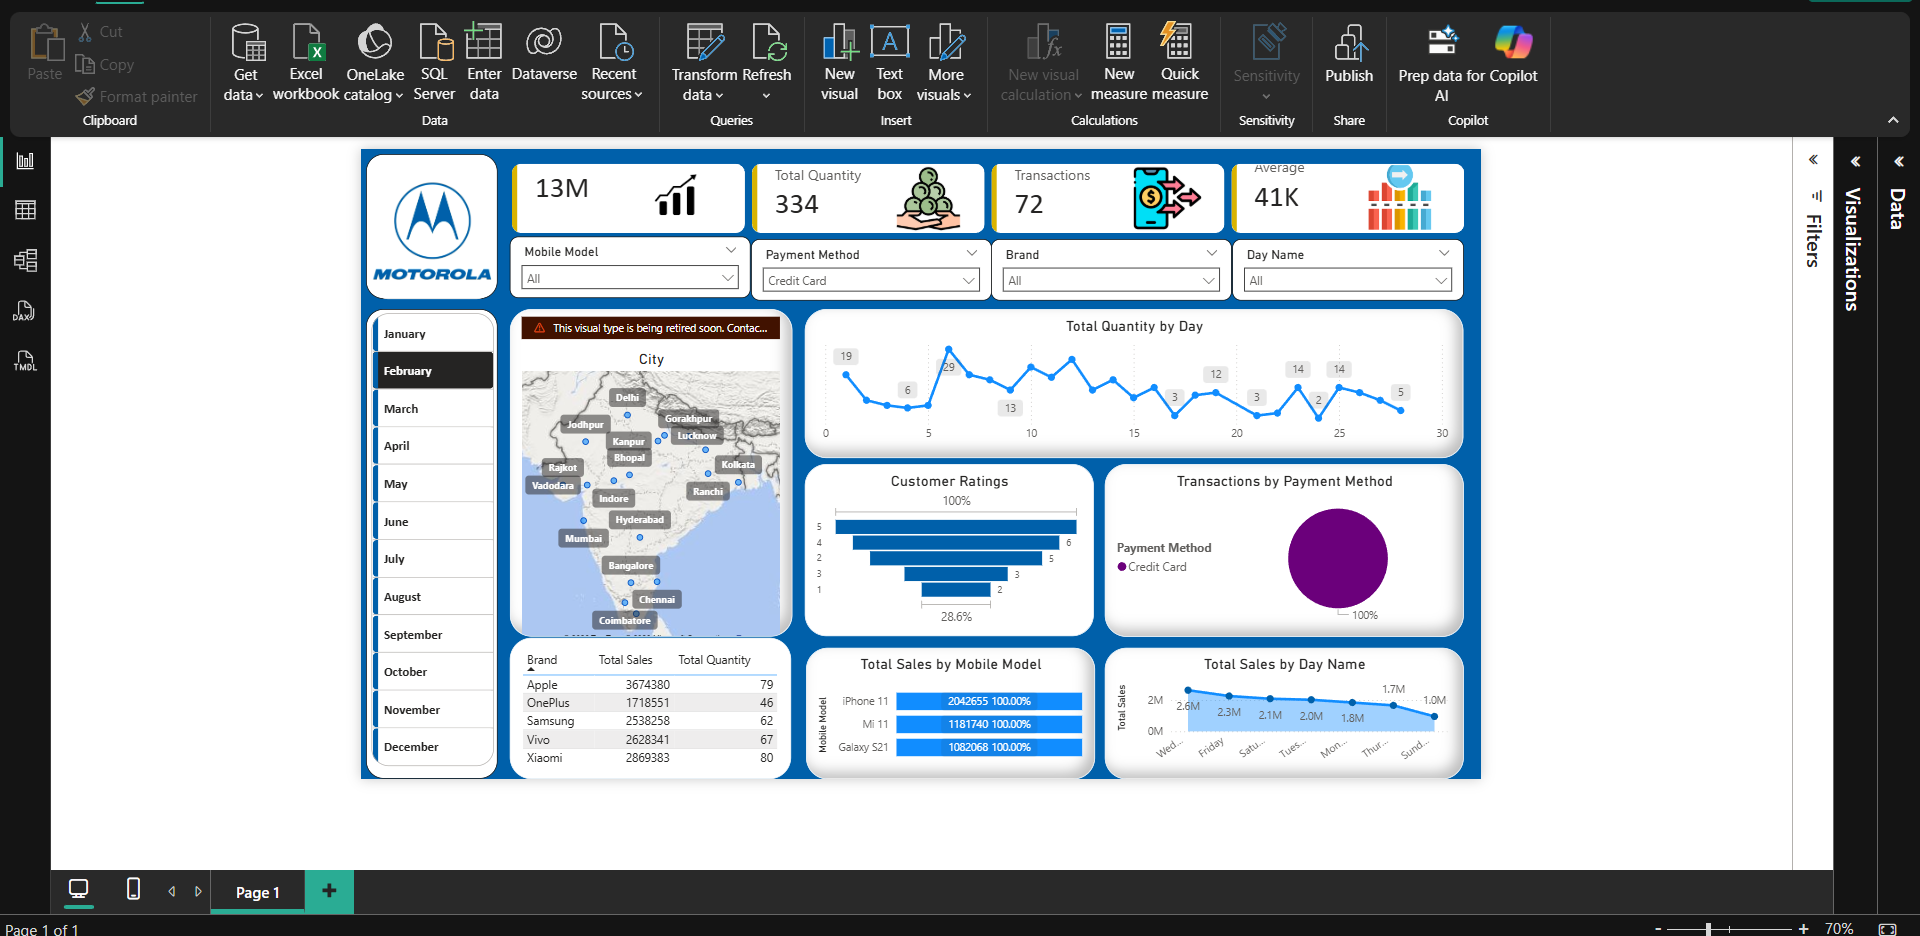

The page's visual inventory and layout, read from the dashboard file:
{"tool":"powerbi","page":{"name":"Page 1","canvas":[1280,720],"ordinal":0},"visuals":[{"type":"shape","box":[5.7,5.7,150,165.7],"z":0},{"type":"image","box":[11.4,17.1,140,154.3],"z":1000},{"type":"shape","box":[5.7,182.9,150,537.1],"z":2000},{"type":"advancedSlicerVisual","fields":{"Values":["Sheet1.Date.Variation.Date Hierarchy.Month"]},"box":[7.1,182.9,150,537.1],"z":3000},{"type":"cardVisual","fields":{"Data":["Sheet1.Total Sales","Sheet1.Total Quantity","Sheet1.Transactions","Sheet1.Average"]},"box":[155.6,0,1122.2,113.3],"z":4000},{"type":"map","fields":{"Category":["Sheet1.City"]},"box":[170,182.9,322.9,374.3],"z":5000},{"type":"lineChart","fields":{"Y":["Sheet1.Total Quantity"],"Category":["Sheet1.Date.Variation.Date Hierarchy.Month","Sheet1.Date.Variation.Date Hierarchy.Day"]},"box":[507.5,182.5,752.5,170],"z":6000},{"type":"hundredPercentStackedBarChart","fields":{"Category":["Sheet1.Mobile Model"],"Y":["Sheet1.Total Sales"]},"box":[508.6,570,330,150],"z":7000},{"type":"pieChart","fields":{"Category":["Sheet1.Payment Method"],"Y":["Sheet1.Transactions"]},"box":[850,360,410,197.5],"z":8000},{"type":"funnel","title":"Customer Ratings ","fields":{"Category":["Sheet1.Customer Ratings"],"Y":["CountNonNull(Sheet1.Customer Ratings)"]},"box":[507.1,360,330,197.1],"z":9000},{"type":"areaChart","fields":{"Category":["Sheet1.Day Name"],"Y":["Sheet1.Total Sales"]},"box":[850,570,410,150],"z":10000},{"type":"tableEx","fields":{"Values":["Sheet1.Brand","Sheet1.Total Sales","Sheet1.Total Quantity"]},"box":[170,558.6,321.4,161.4],"z":11000},{"type":"slicer","fields":{"Values":["Sheet1.Mobile Model"]},"box":[170,100,275.6,70],"z":12000},{"type":"slicer","fields":{"Values":["Sheet1.Payment Method"]},"box":[445,102.5,275,70],"z":13000},{"type":"slicer","fields":{"Values":["Sheet1.Brand"]},"box":[720,102.5,275,70],"z":14000},{"type":"slicer","fields":{"Values":["Sheet1.Day Name"]},"box":[995,102.5,265,70],"z":15000}]}

Visuals, with their boxes on the page's 1280x720 design canvas (x1, y1, x2, y2). These are canvas units, not pixel positions in the 1920x936 screenshot, which may show the page scaled, cropped or inside an application window:
shape: {"left": 6, "top": 6, "right": 156, "bottom": 171}
image: {"left": 11, "top": 17, "right": 151, "bottom": 171}
shape: {"left": 6, "top": 183, "right": 156, "bottom": 720}
advancedSlicerVisual - Sheet1.Date.Variation.Date Hierarchy.Month: {"left": 7, "top": 183, "right": 157, "bottom": 720}
cardVisual - Sheet1.Total Sales x Sheet1.Total Quantity: {"left": 156, "top": 0, "right": 1278, "bottom": 113}
map - Sheet1.City: {"left": 170, "top": 183, "right": 493, "bottom": 557}
lineChart - Sheet1.Total Quantity x Sheet1.Date.Variation.Date Hierarchy.Month: {"left": 508, "top": 182, "right": 1260, "bottom": 352}
hundredPercentStackedBarChart - Sheet1.Mobile Model x Sheet1.Total Sales: {"left": 509, "top": 570, "right": 839, "bottom": 720}
pieChart - Sheet1.Payment Method x Sheet1.Transactions: {"left": 850, "top": 360, "right": 1260, "bottom": 558}
"Customer Ratings " funnel: {"left": 507, "top": 360, "right": 837, "bottom": 557}
areaChart - Sheet1.Day Name x Sheet1.Total Sales: {"left": 850, "top": 570, "right": 1260, "bottom": 720}
tableEx - Sheet1.Brand x Sheet1.Total Sales: {"left": 170, "top": 559, "right": 491, "bottom": 720}
slicer - Sheet1.Mobile Model: {"left": 170, "top": 100, "right": 446, "bottom": 170}
slicer - Sheet1.Payment Method: {"left": 445, "top": 102, "right": 720, "bottom": 172}
slicer - Sheet1.Brand: {"left": 720, "top": 102, "right": 995, "bottom": 172}
slicer - Sheet1.Day Name: {"left": 995, "top": 102, "right": 1260, "bottom": 172}
